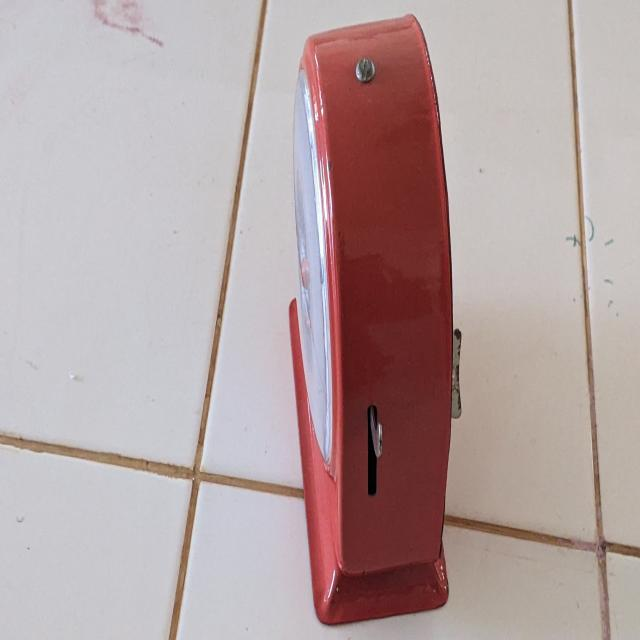Analog Stopwatch: (277, 0, 473, 627)
